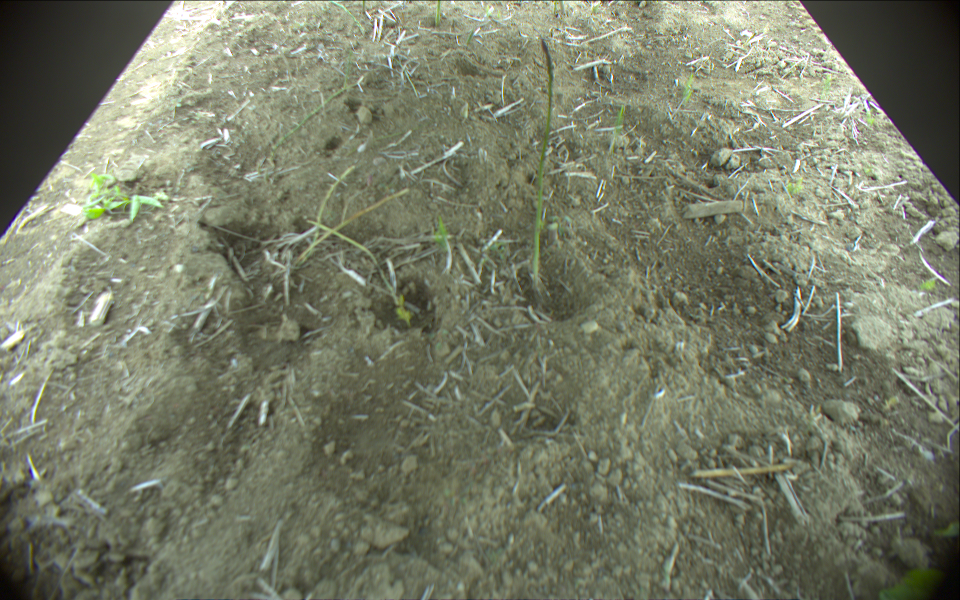aspa: (526, 36, 553, 301), (436, 1, 443, 26)
